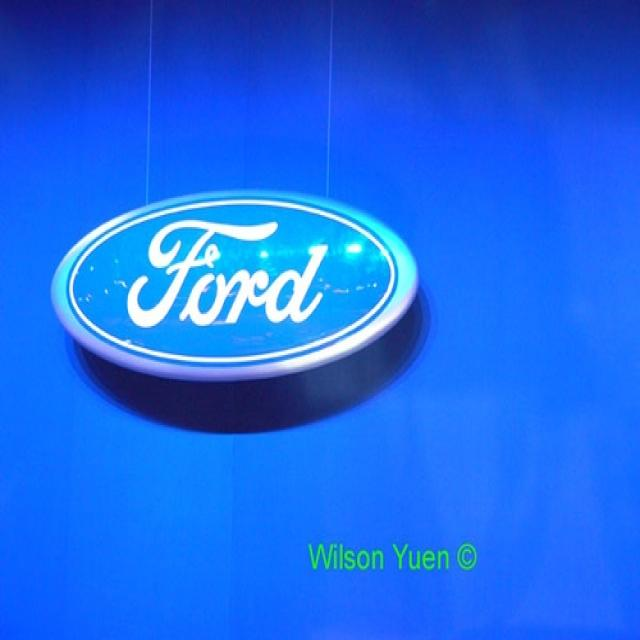ford: (50, 184, 425, 389)
